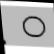no answer: (20, 14, 48, 40)
